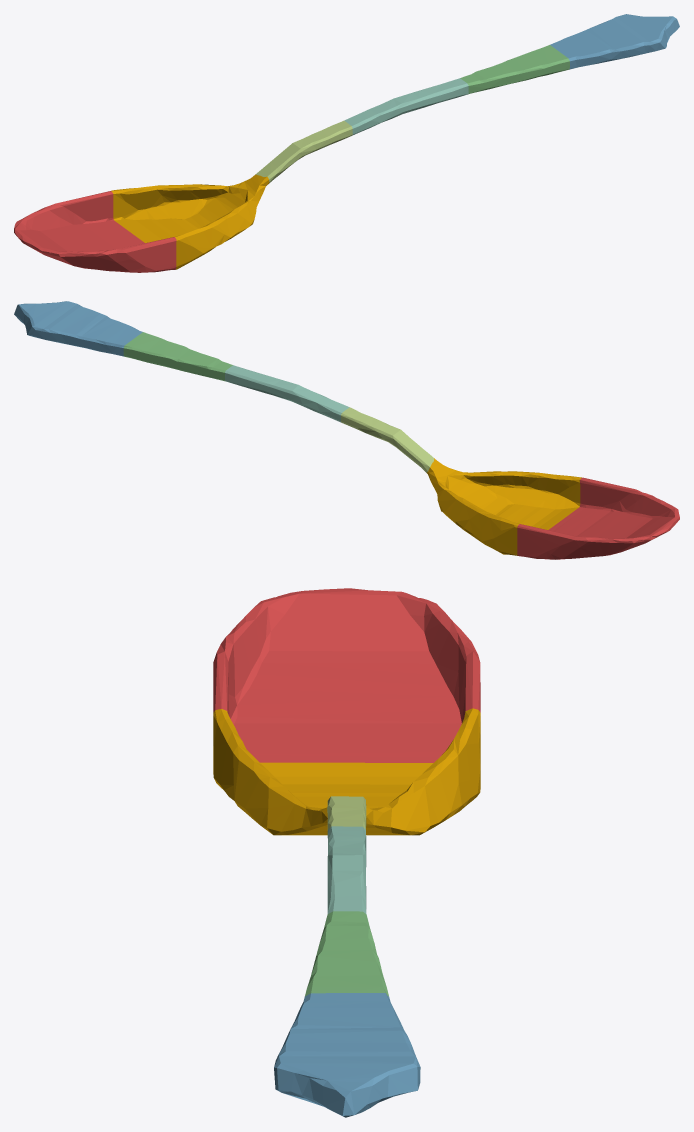
File: mode_6_6pcs.glb
3 renders of one model, top to bottom at view 1: azimuth 30°, elevation 25°; view 2: azimuth 150°, elevation 25°; view 3: azimuth 270°, elevation 25°, orthographic. The views are drawn at different scales.
Parts seen in each view (by area): view 1: piece_0.obj, piece_1.obj, piece_2.obj, piece_3.obj, piece_4.obj, piece_5.obj; view 2: piece_0.obj, piece_1.obj, piece_2.obj, piece_3.obj, piece_4.obj, piece_5.obj; view 3: piece_1.obj, piece_0.obj, piece_2.obj, piece_3.obj, piece_4.obj, piece_5.obj.
Boxes of the visible parts, bbox=[...] form: piece_0.obj: bbox=[111, 174, 269, 269]; piece_1.obj: bbox=[14, 191, 176, 272]; piece_2.obj: bbox=[550, 14, 679, 69]; piece_3.obj: bbox=[460, 45, 569, 94]; piece_4.obj: bbox=[344, 78, 468, 135]; piece_5.obj: bbox=[255, 120, 352, 182]; piece_0.obj: bbox=[427, 458, 581, 555]; piece_1.obj: bbox=[517, 477, 679, 559]; piece_2.obj: bbox=[14, 301, 142, 356]; piece_3.obj: bbox=[123, 332, 232, 381]; piece_4.obj: bbox=[225, 365, 349, 422]; piece_5.obj: bbox=[341, 407, 434, 472]; piece_1.obj: bbox=[213, 588, 480, 762]; piece_0.obj: bbox=[213, 708, 480, 835]; piece_2.obj: bbox=[274, 993, 420, 1117]; piece_3.obj: bbox=[305, 911, 388, 996]; piece_4.obj: bbox=[327, 826, 366, 914]; piece_5.obj: bbox=[327, 796, 366, 830].
Bounding box in the file's own units: 1 × 0.1481 × 0.1767.
